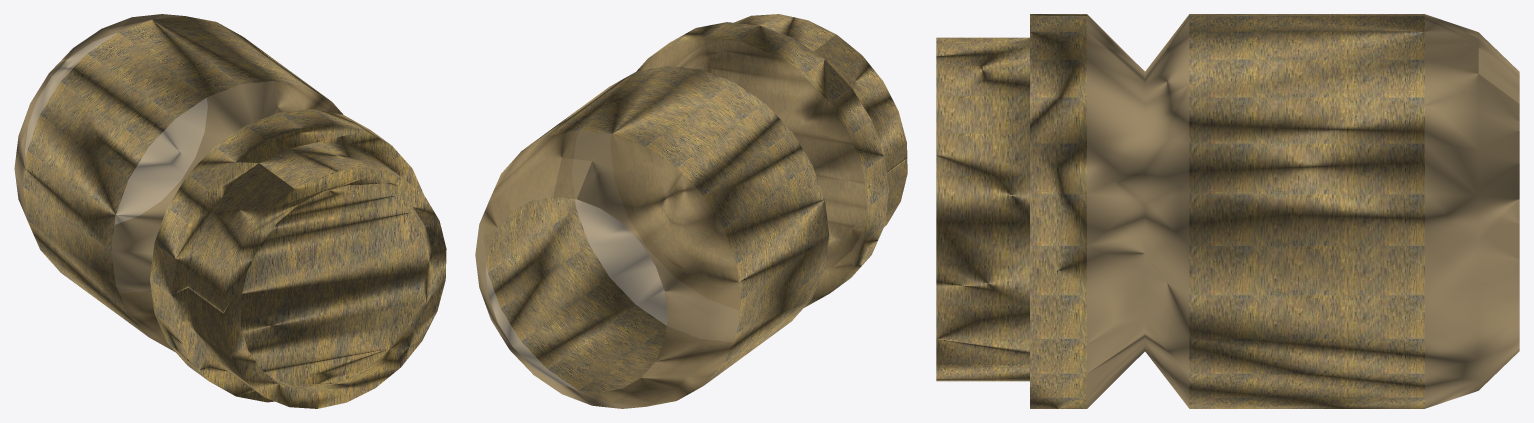
File: model_align.obj
3 renders of one model, left to right at view 1: azimuth 30°, elevation 25°; view 2: azimuth 150°, elevation 25°; view 3: azimuth 270°, elevation 25°, orthographic. The views are drawn at different scales.
Bounding box in the file's own units: 0.0753 × 0.0753 × 0.1108.
